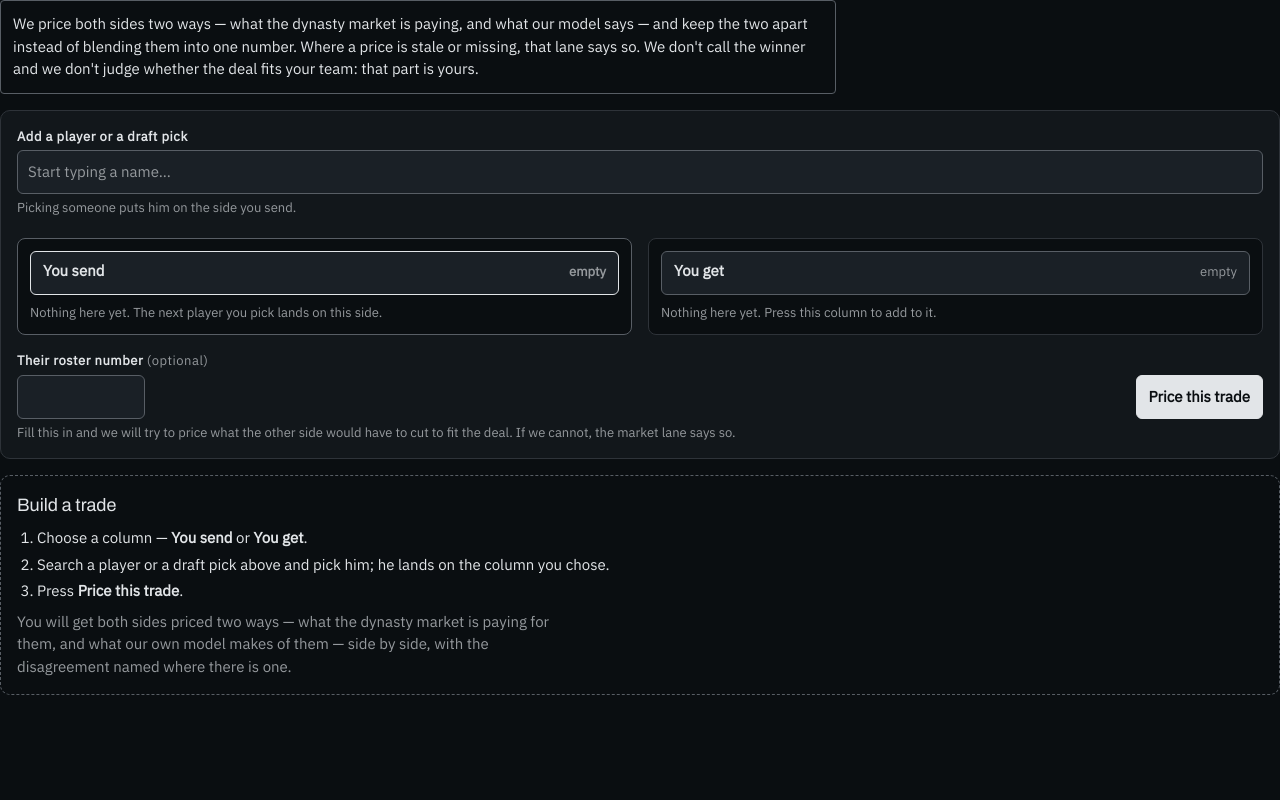
Scenario: TradeLab two-side builder and parallel run › adds a searched asset to the default sent side and runs both lanes with shaped payloads
The image size is (1280, 800).
Later steps or results of the test are not shown.
Type "cha" into the search field at (640, 172), box [17,150,1263,194]
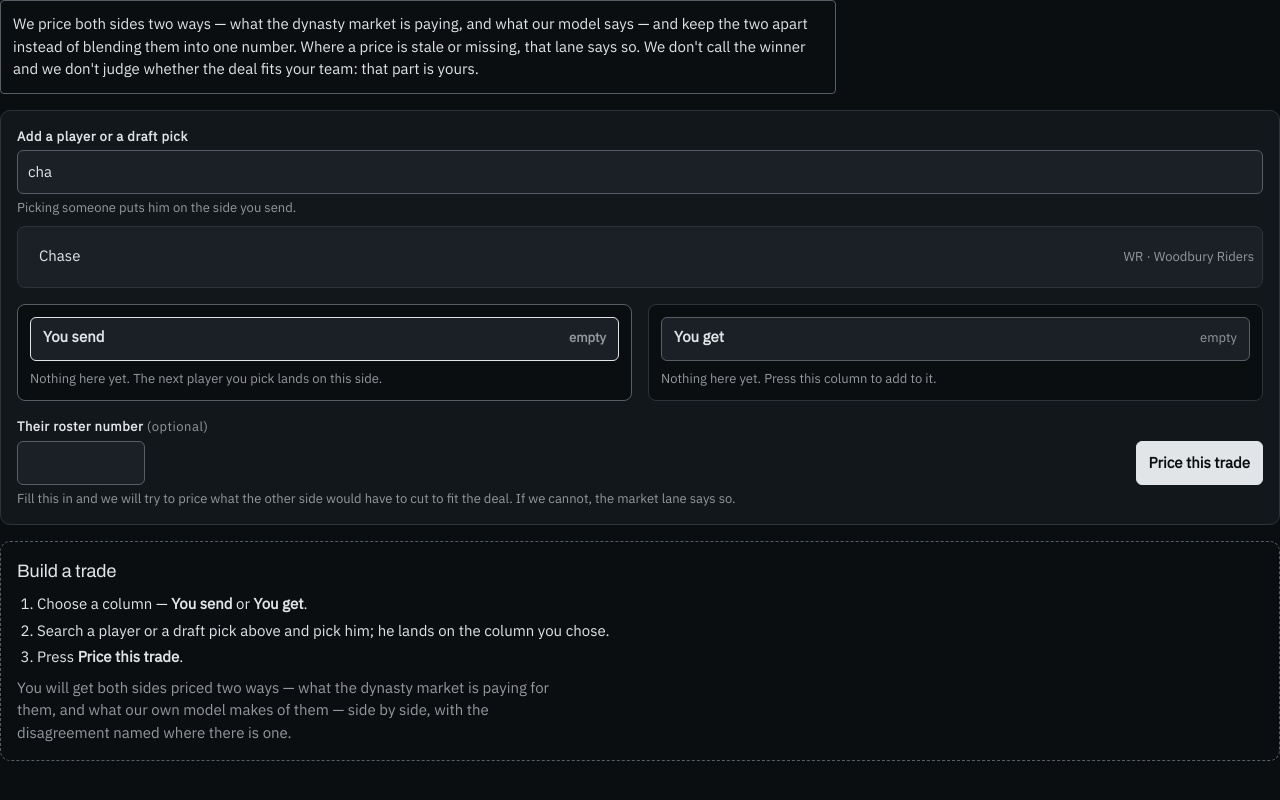
Click the button "Chase" at (60, 256), box [26,234,1116,278]
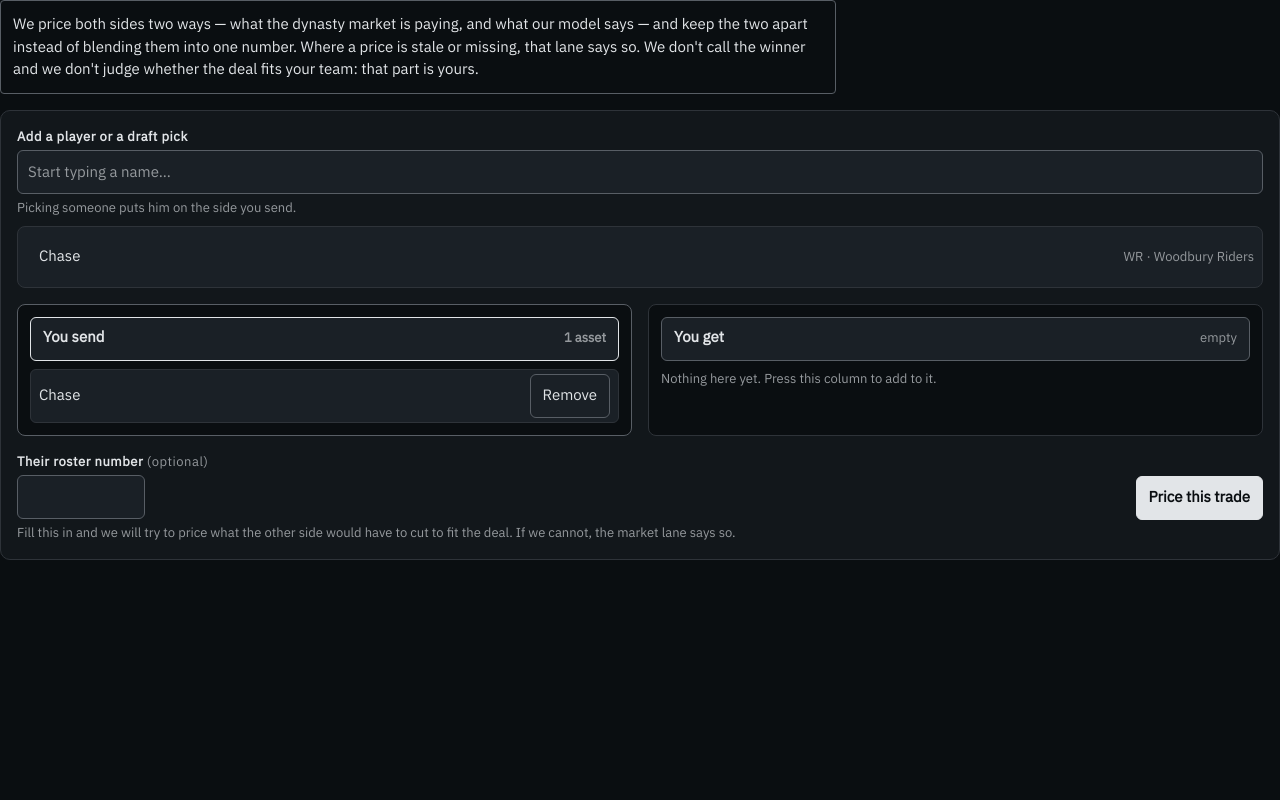
Now the list item "Chase" is shown, box [39,385,80,404]
